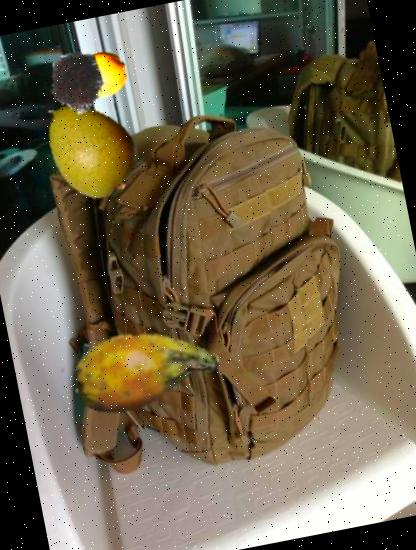Cactus: (58, 280, 232, 454)
Pear: (25, 86, 150, 210)
Quince: (66, 42, 133, 109)
Rambutan: (39, 44, 115, 120)
